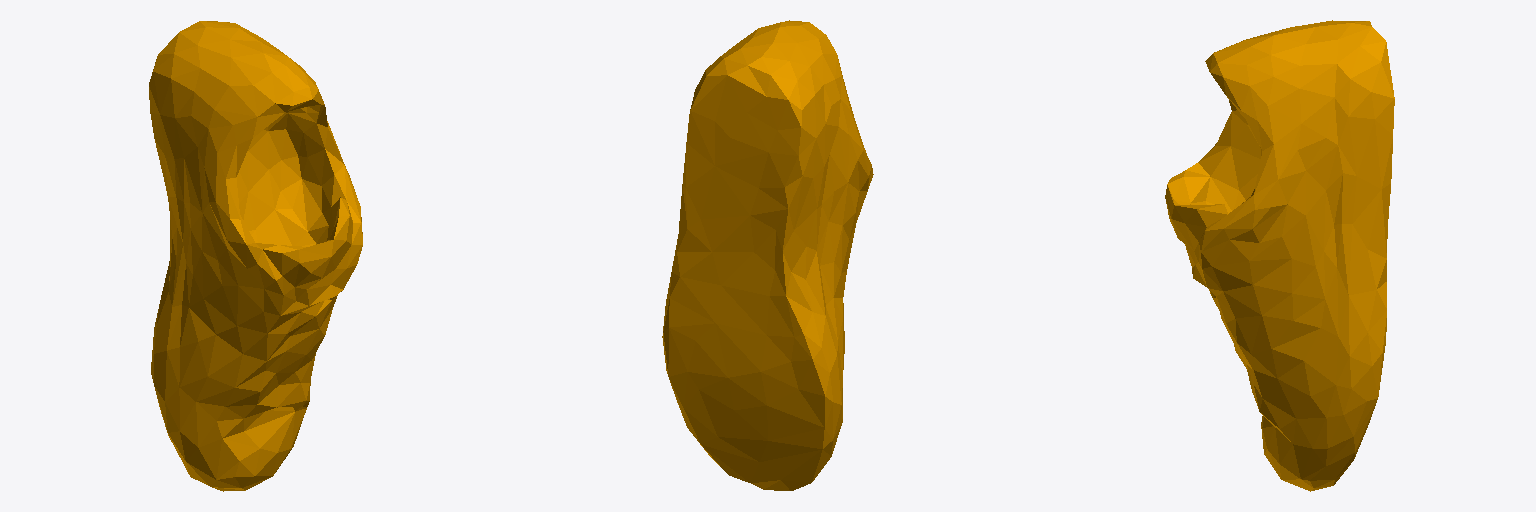
robot.urdf — ShoeNike:
<?xml version="1.0"?>
<robot name="ShoeNike">
  <link name="base_link">
    <contact>
      <lateral_friction value="1.0"/>
      <rolling_friction value="0.0"/>
      <contact_cfm value="0.0"/>
      <contact_erp value="1.0"/>
    </contact>
    <inertial>
      <mass value="0.0399491484358"/>
      <inertia ixx="1" ixy="0" ixz="0" iyy="1" iyz="0" izz="1"/>
    </inertial>
    <visual>
      <geometry>
        <mesh filename="ShoeNike_visual.obj"/>
      </geometry>
    </visual>
    <collision>
      <geometry>
        <mesh filename="ShoeNike_collision.obj"/>
      </geometry>
    </collision>
  </link>
</robot>

--- Render facts (derived) ---
3 views of the same robot in one strip: view 1: azimuth 30°, elevation 25°; view 2: azimuth 150°, elevation 25°; view 3: azimuth 270°, elevation 25° (orthographic).
Robot: ShoeNike — 1 links, 0 joints (none); root link base_link; default pose: all joints at 0.
Links seen in each view (by area): view 1: base_link; view 2: base_link; view 3: base_link.
Boxes of the visible links, x1,y1,x2,y2 form: base_link: (149,21,362,491); base_link: (662,20,873,490); base_link: (1165,20,1394,491).
Bounding box of the posed robot: 0.0358 × 0.0441 × 0.0968 m (x, y, z).
Meshes: 1 distinct files referenced, 1 mesh visuals loaded (1 OBJ).